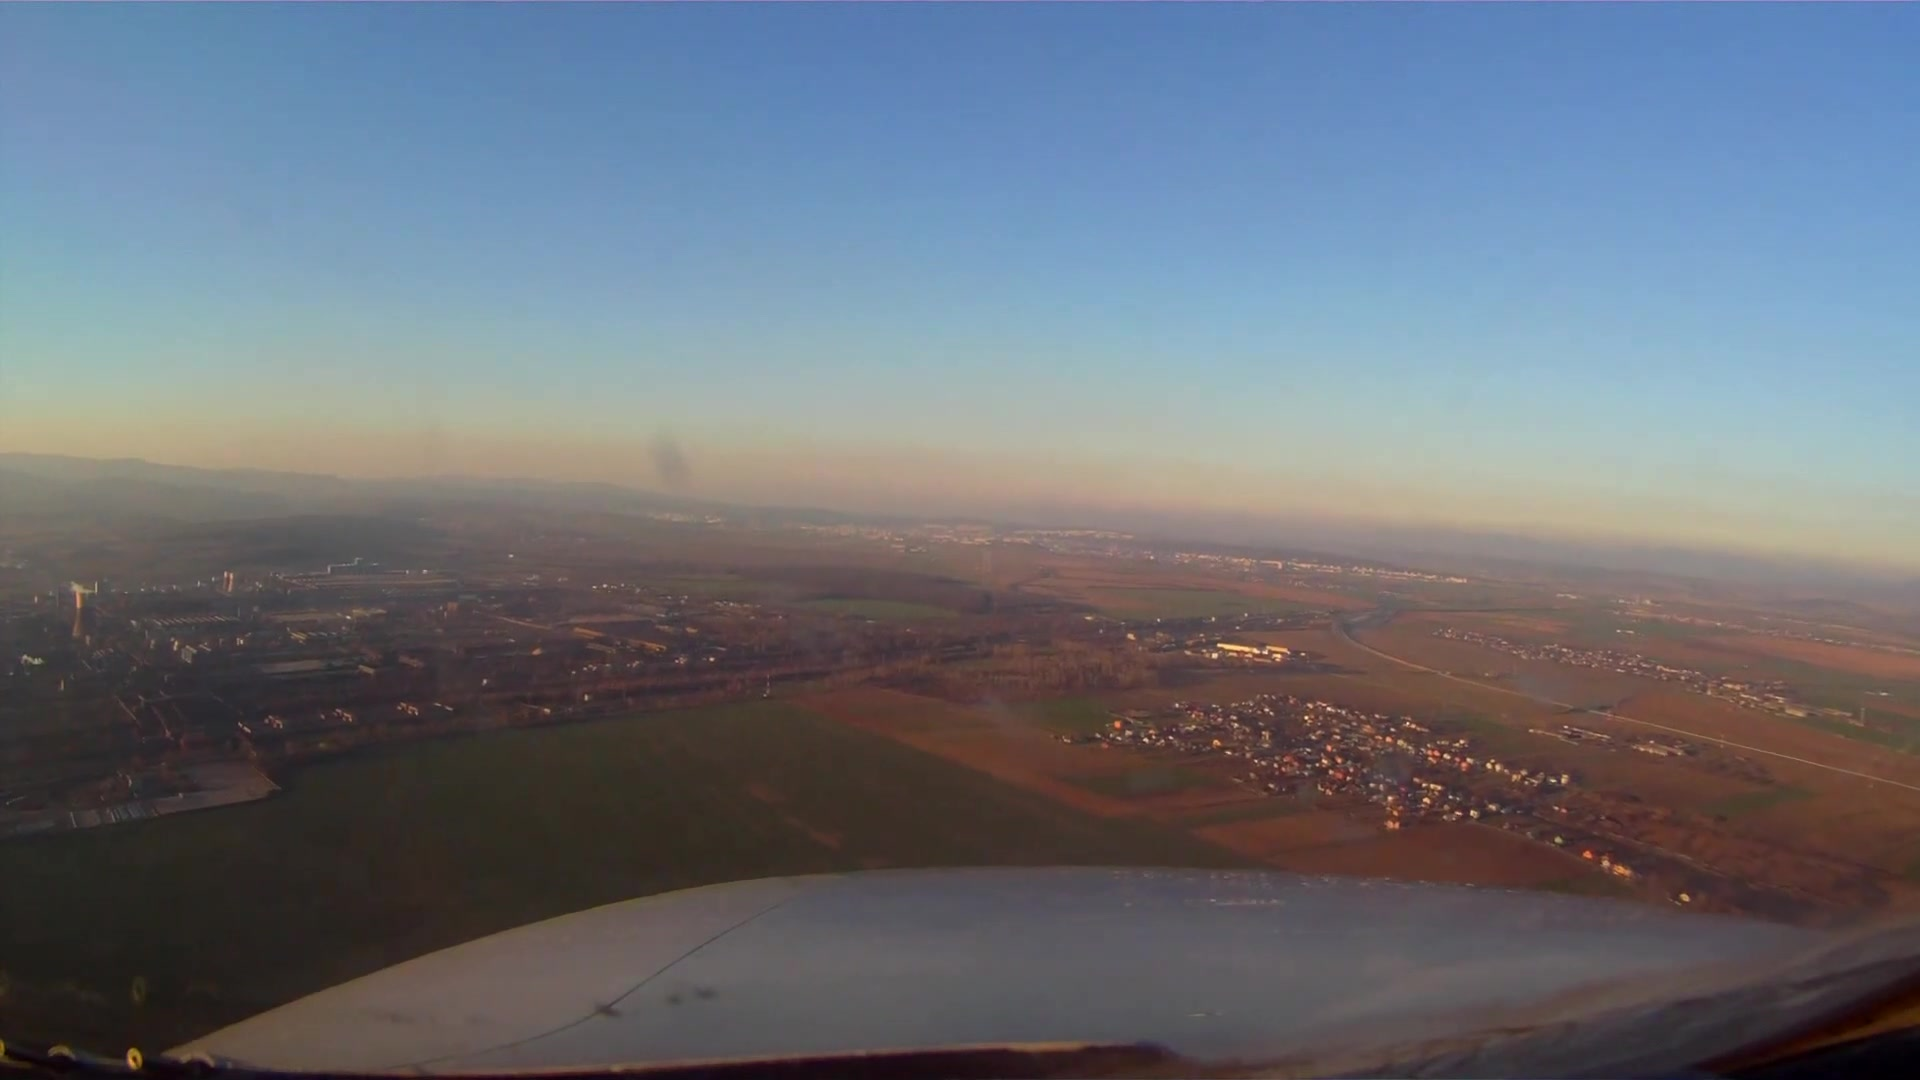runway: (980, 550, 993, 576)
